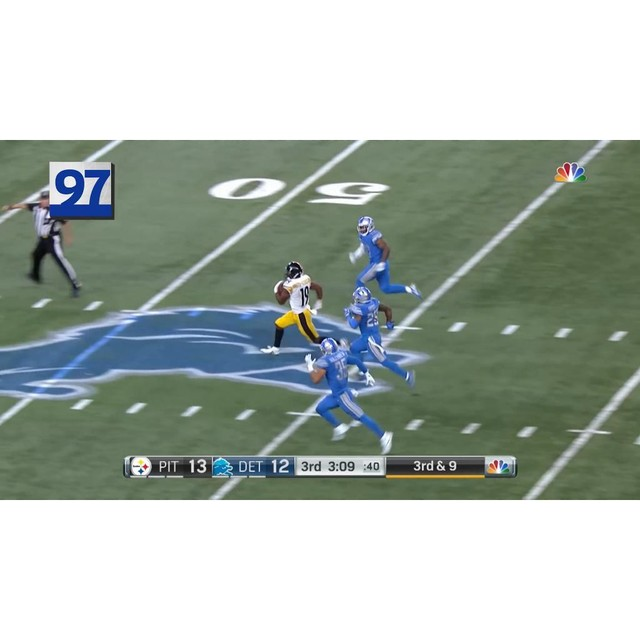american-football-player: (305, 336, 392, 452), (342, 286, 415, 391), (348, 216, 420, 304), (264, 262, 327, 357)
referee: (12, 188, 85, 300)
